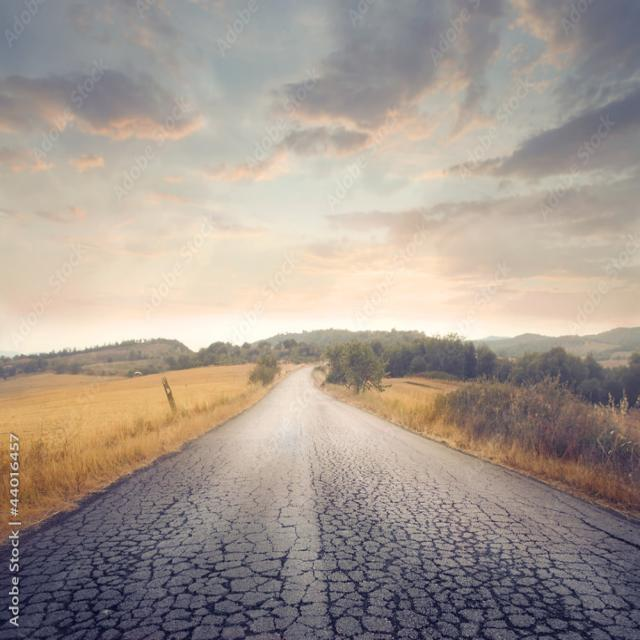Drain Hole: (121, 480, 600, 640)
